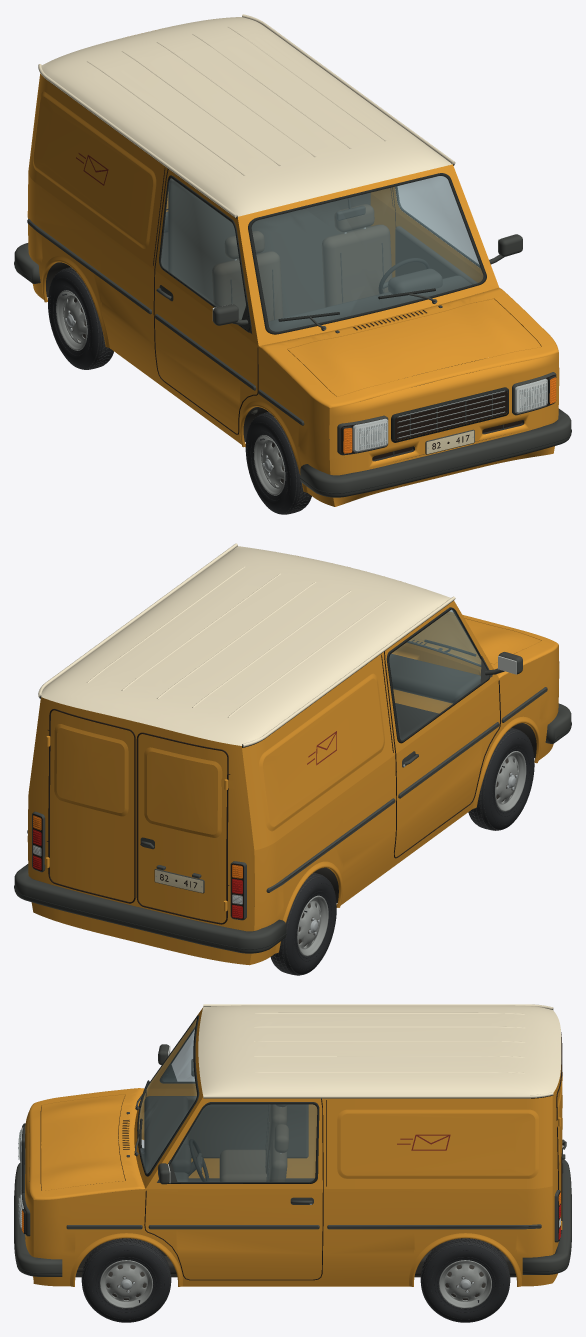
Rendered from courier.glb.
3 renders of one model, top to bottom at view 1: azimuth 30°, elevation 25°; view 2: azimuth 150°, elevation 25°; view 3: azimuth 270°, elevation 25°, orthographic. The views are drawn at different scales.
Parts seen in each view (by area): view 1: nose, roof, cab-right, cargo-right, cab-left, cargo-left, wheel-rf, wheel-rr, tail; view 2: tail, roof, cargo-right, cab-right, nose, wheel-rf, wheel-rr, cargo-left; view 3: cargo-left, cab-left, roof, nose, cab-right, wheel-lf, wheel-lr, tail.
Part boxes in pixels (<box>): nose: <box>237,164,571,506</box>; roof: <box>38,14,455,218</box>; cab-right: <box>153,168,334,506</box>; cargo-right: <box>27,74,167,384</box>; cab-left: <box>303,176,559,428</box>; cargo-left: <box>53,178,499,460</box>; wheel-rf: <box>245,411,311,514</box>; wheel-rr: <box>48,267,113,369</box>; tail: <box>14,84,168,283</box>; tail: <box>14,697,286,965</box>; roof: <box>38,543,455,747</box>; cargo-right: <box>241,652,396,964</box>; cab-right: <box>336,601,559,907</box>; nose: <box>386,609,571,743</box>; wheel-rf: <box>468,728,534,830</box>; wheel-rr: <box>270,872,336,975</box>; cargo-left: <box>27,700,438,869</box>; cargo-left: <box>77,1096,552,1286</box>; cab-left: <box>33,1097,409,1286</box>; roof: <box>198,1004,561,1098</box>; nose: <box>14,1007,203,1279</box>; cab-right: <box>41,1018,317,1184</box>; wheel-lf: <box>81,1238,171,1322</box>; wheel-lr: <box>420,1238,510,1322</box>; tail: <box>522,1032,571,1282</box>.
Size of the model in its own units: 2.18 by 1.85 by 4.
